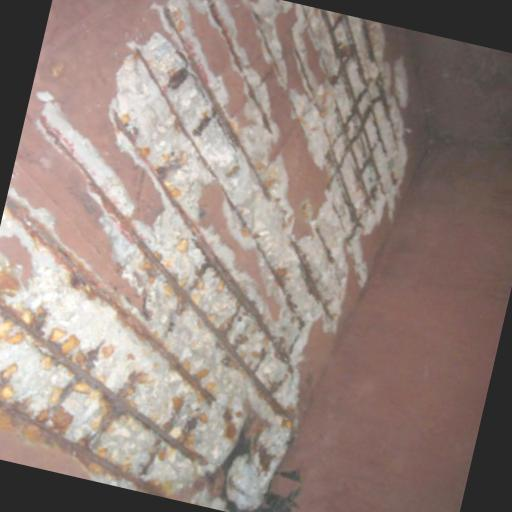spalling: (0, 0, 430, 512)
